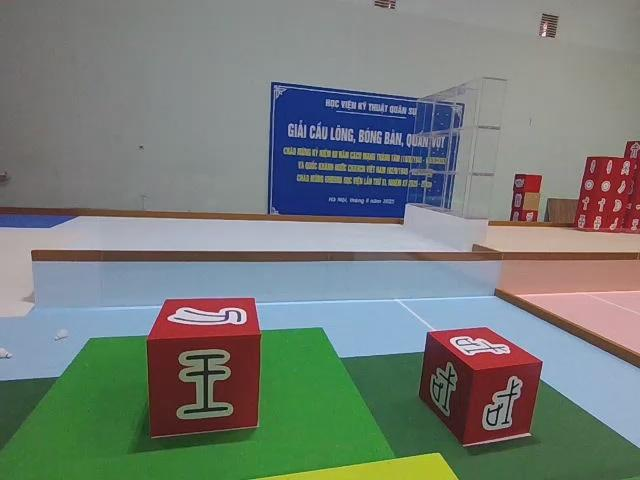R2 Fake: (146, 293, 264, 439)
R2 Real: (417, 324, 545, 449)
